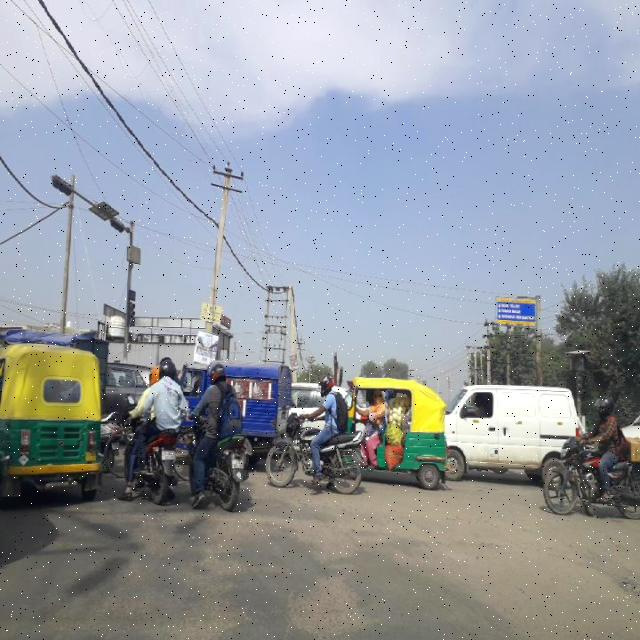D40: (162, 524, 258, 631), (295, 500, 425, 566), (284, 569, 372, 635)
